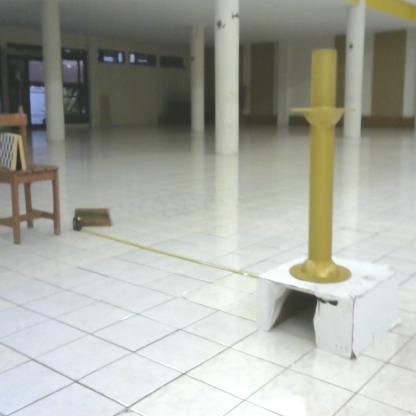pole: (287, 44, 364, 301)
